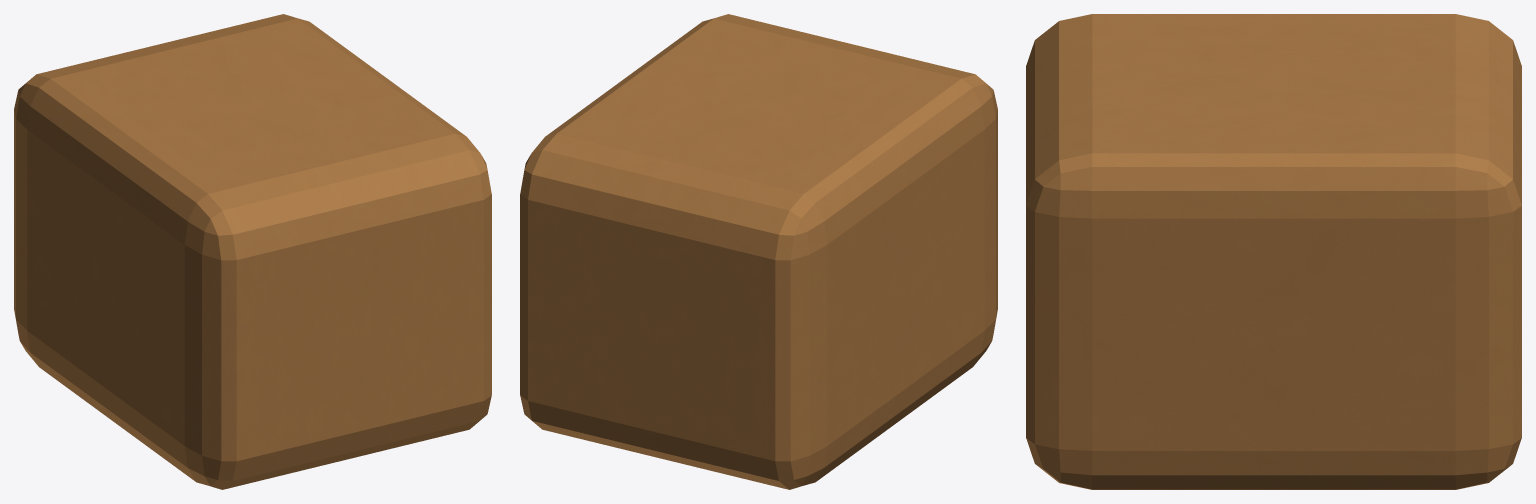
The model's file is BriquePierreCoupe.glb.
The picture shows the model from 3 angles, left to right: view 1: azimuth 30°, elevation 25°; view 2: azimuth 150°, elevation 25°; view 3: azimuth 270°, elevation 25°; orthographic projection. The views are drawn at different scales.
Parts seen in each view (by area): view 1: BriquePierreCoupe; view 2: BriquePierreCoupe; view 3: BriquePierreCoupe.
Part boxes in pixels (box(x1,y1,x2,y2)): BriquePierreCoupe: box(14, 14, 491, 489); BriquePierreCoupe: box(520, 14, 997, 489); BriquePierreCoupe: box(1026, 14, 1521, 489).
Size of the model in its own units: 4.18 by 3.96 by 5.29.
1 material, 1 textured.
